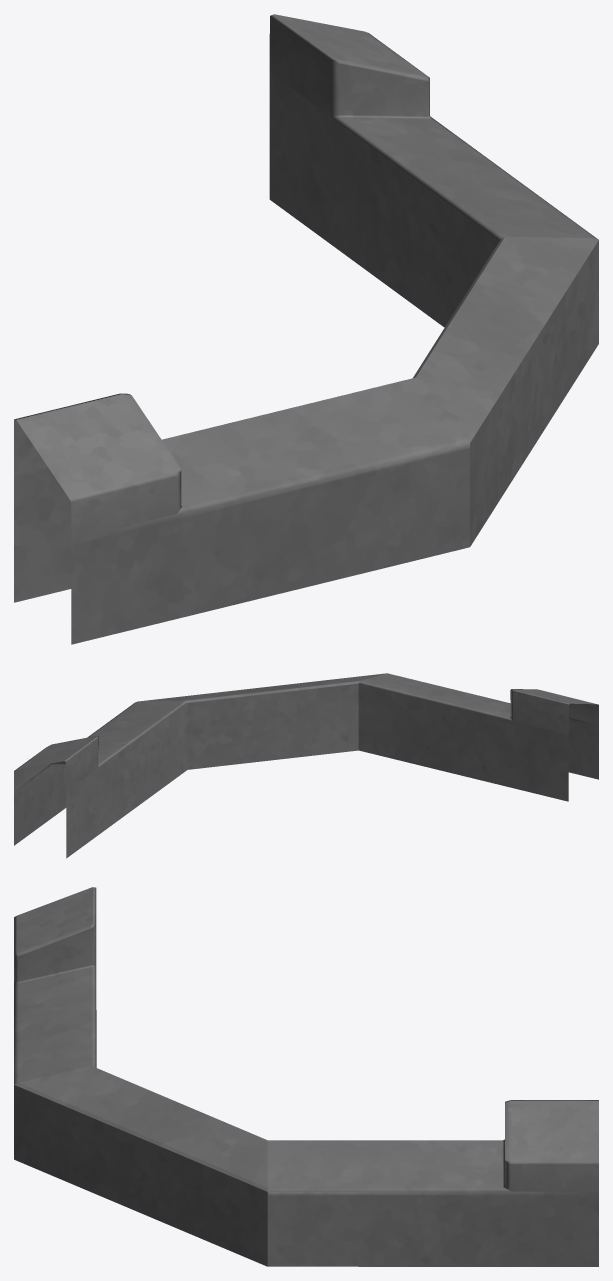
File: BrickRailing_OutsideBeveled.fbx
The picture shows the model from 3 angles, top to bottom: view 1: azimuth 30°, elevation 25°; view 2: azimuth 150°, elevation 25°; view 3: azimuth 270°, elevation 25°; orthographic projection. The views are drawn at different scales.
Parts seen in each view (by area): view 1: BrickRailing_OutsideBeveled; view 2: BrickRailing_OutsideBeveled; view 3: BrickRailing_OutsideBeveled.
Part boxes in pixels (bbox=[...]): BrickRailing_OutsideBeveled: bbox=[14, 14, 598, 644]; BrickRailing_OutsideBeveled: bbox=[14, 673, 598, 858]; BrickRailing_OutsideBeveled: bbox=[14, 887, 598, 1266].
Bounding box in the file's own units: 531 × 133 × 531.
Materials: 1 (1 with a texture image).
